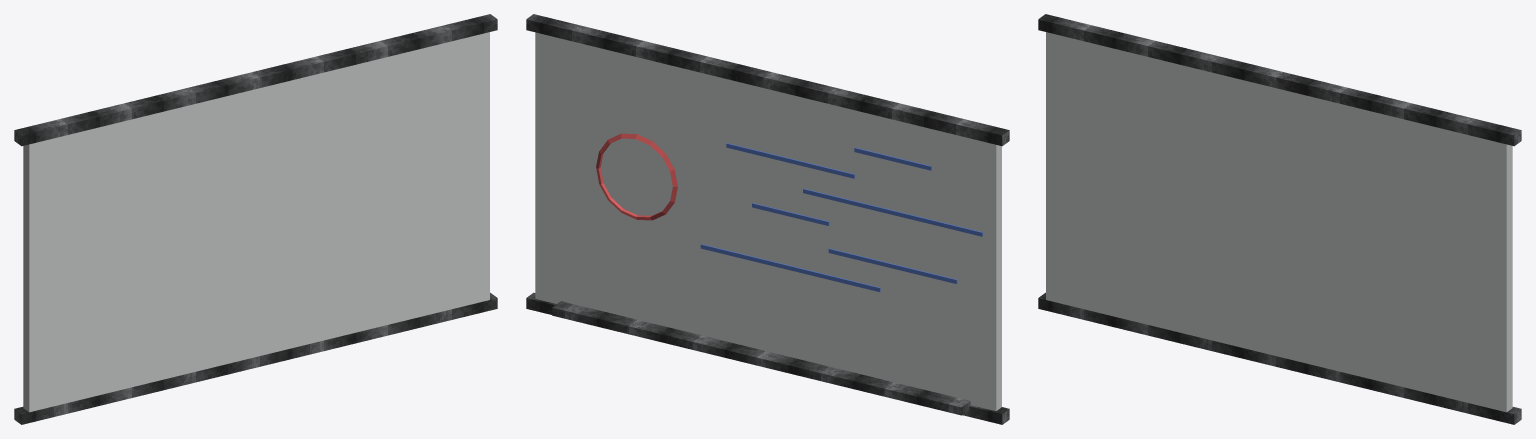
Rendered from whiteboard.glb.
3 views of the same model, side by side, from view 1: azimuth 30°, elevation 25°; view 2: azimuth 150°, elevation 25°; view 3: azimuth 330°, elevation 25° (orthographic).
Visible parts, largest first — view 1: whiteboard; view 2: whiteboard; view 3: whiteboard.
Boxes of the visible parts, <box> form: whiteboard: <box>14,14,497,424</box>; whiteboard: <box>526,14,1009,424</box>; whiteboard: <box>1038,14,1521,424</box>.
Bounding box in the file's own units: 1.86 × 1.08 × 0.1.
4 materials, 1 textured.
